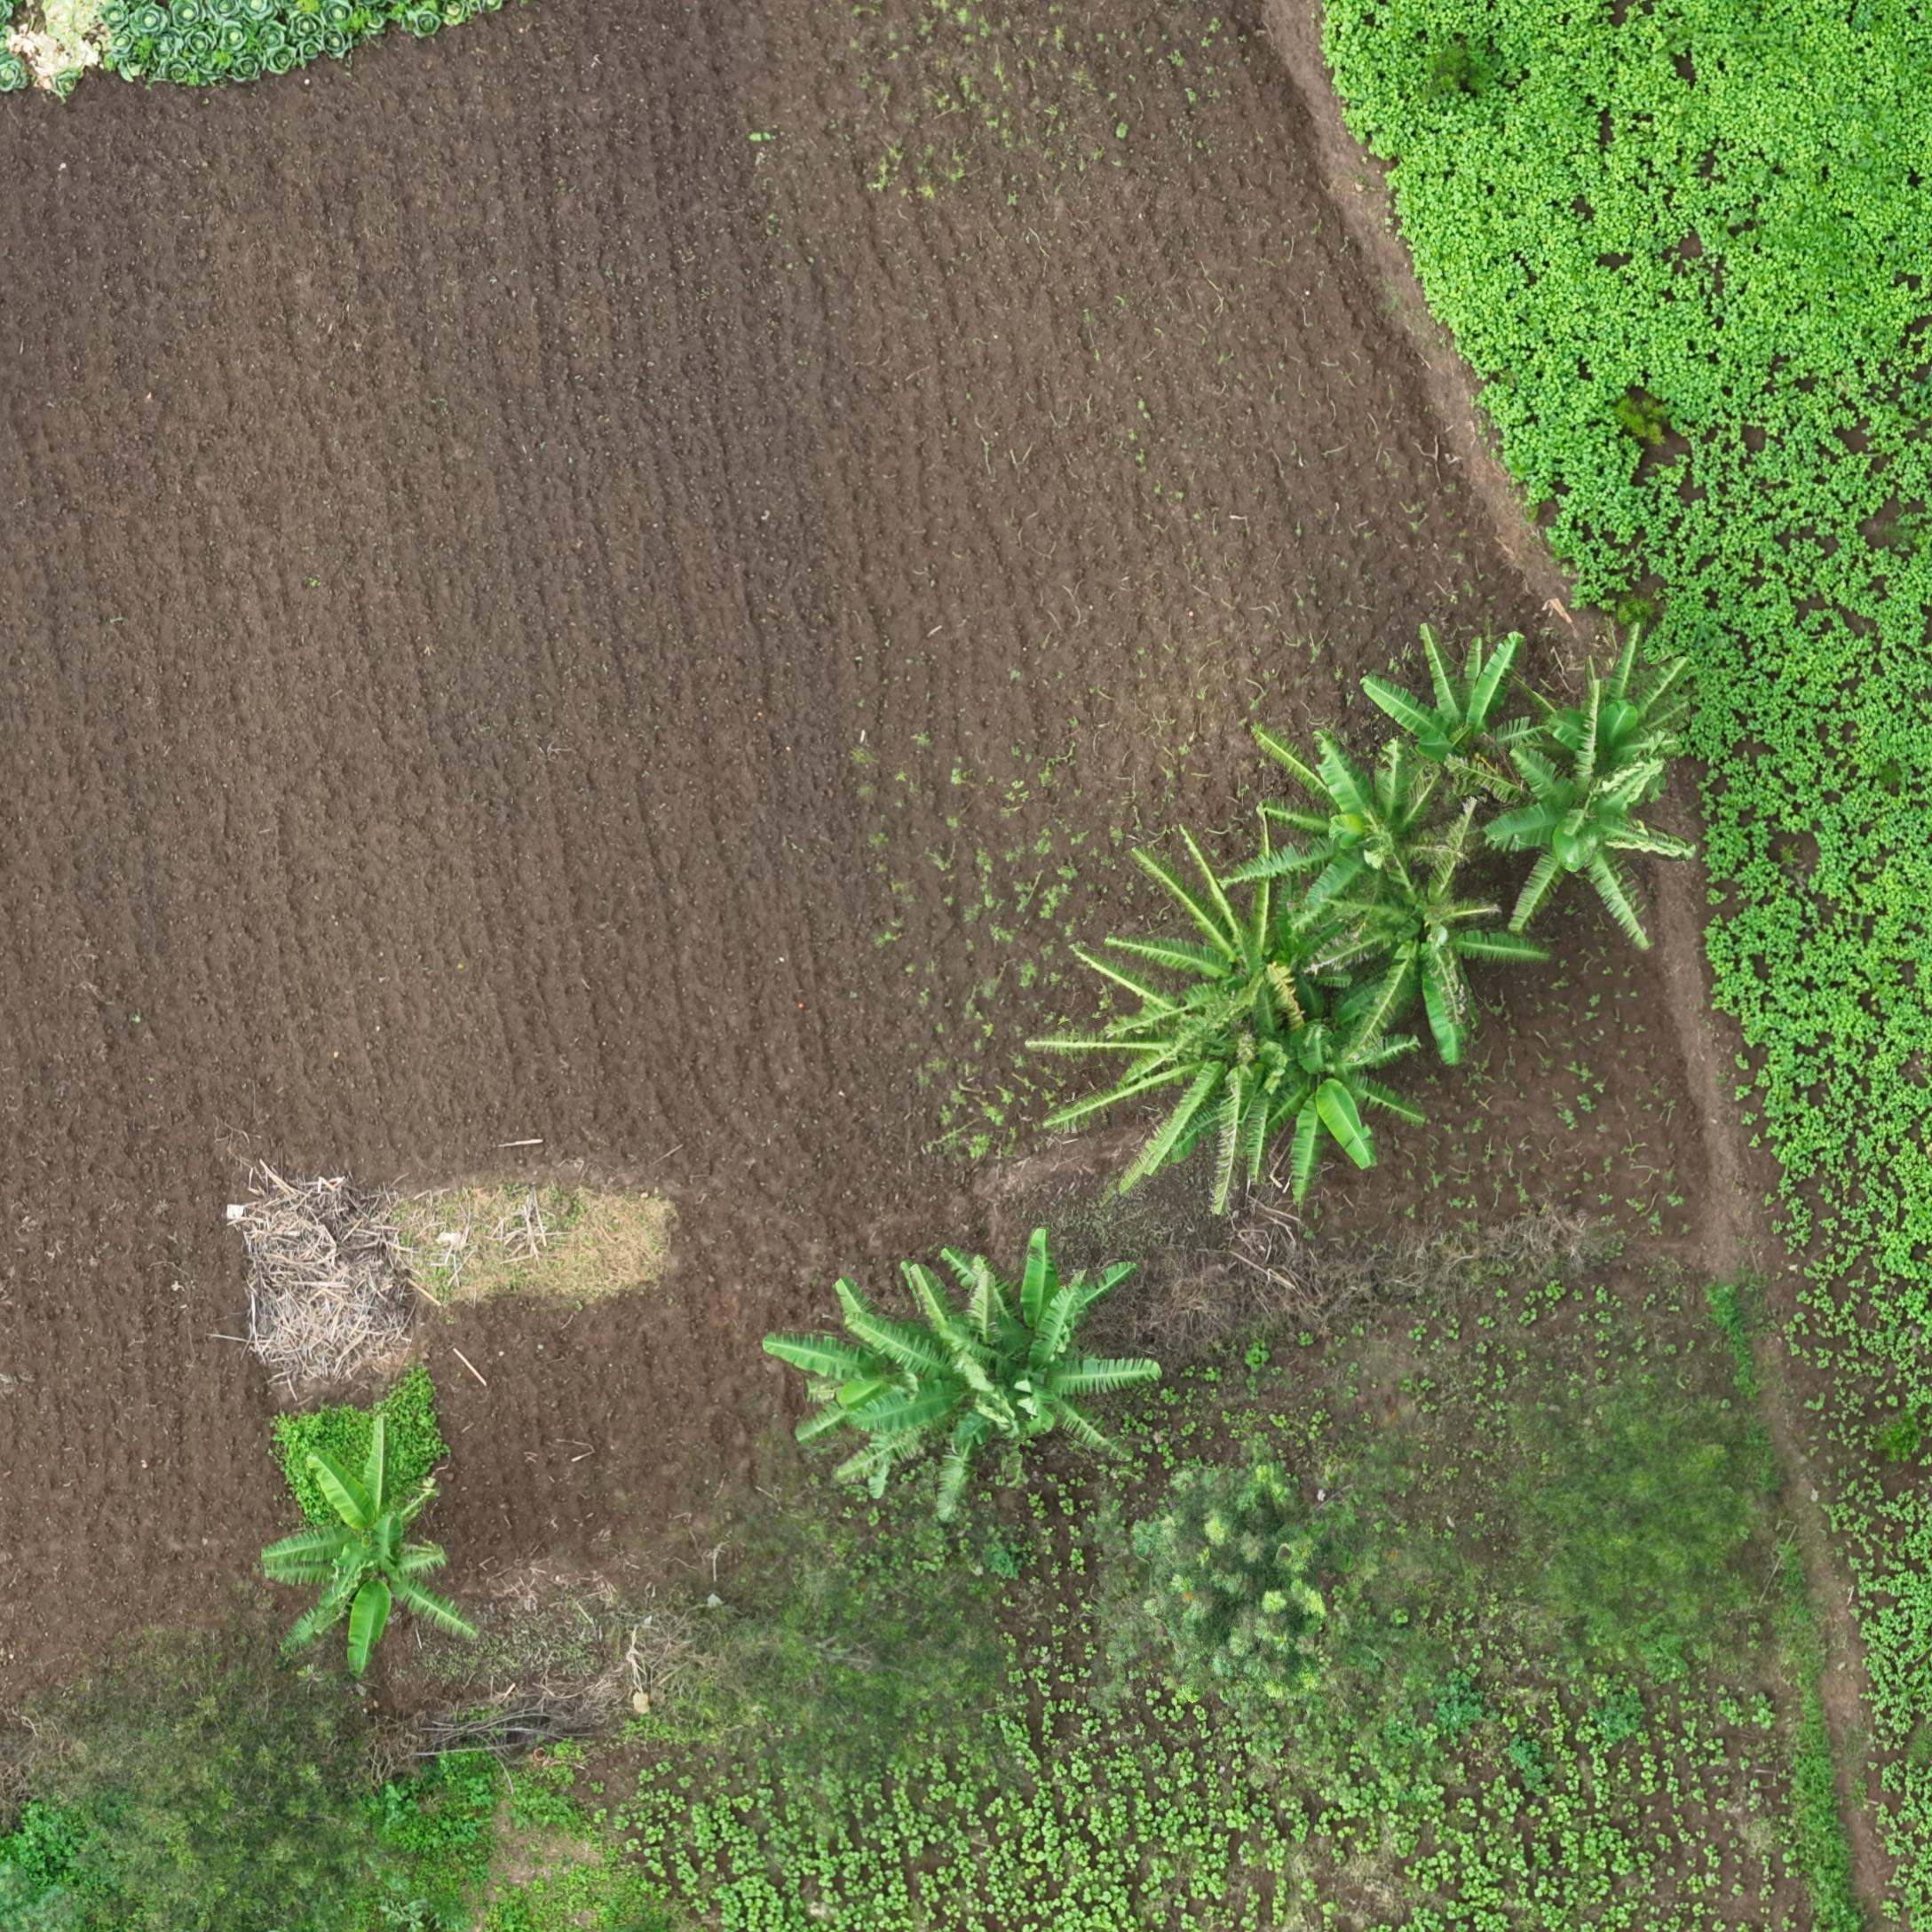Banana: (759, 1311, 1039, 1562), (1024, 1044, 1359, 1231), (272, 1497, 522, 1744), (1161, 851, 1403, 1076), (1385, 625, 1614, 853), (1281, 740, 1511, 932)
